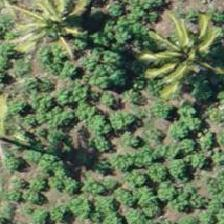coconut_tree: (144, 14, 223, 104), (9, 0, 99, 54)
